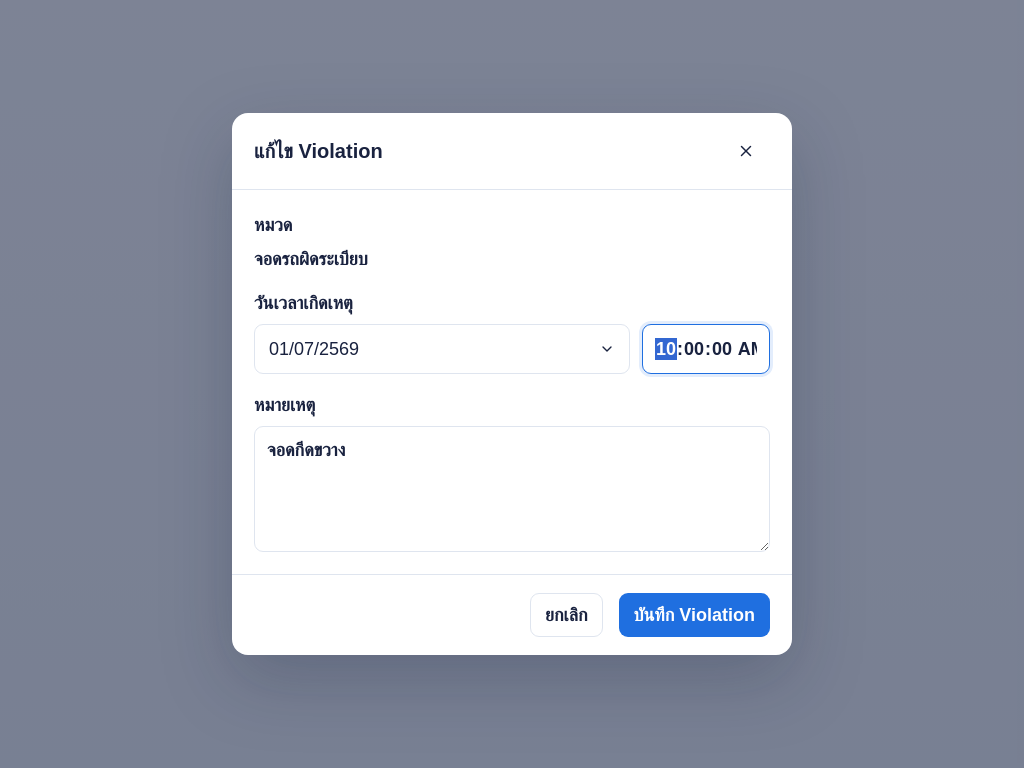
Test: EditViolationModal › keeps API errors visible without closing
Step 1. Click the button "บันทึก Violation" → (694,615), box [618, 593, 770, 637]
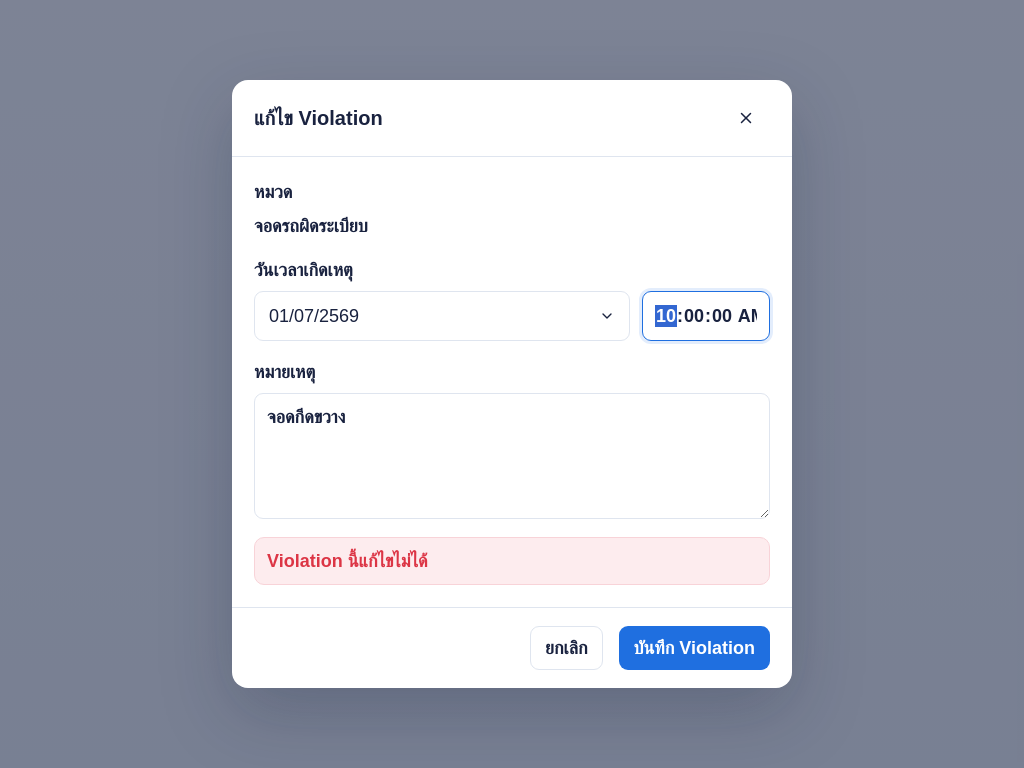
Check: the dialog "แก้ไข Violation" is shown, box [232, 80, 792, 688]
Check: the text "Violation นี้แก้ไขไม่ได้" is shown, box [254, 537, 770, 585]
